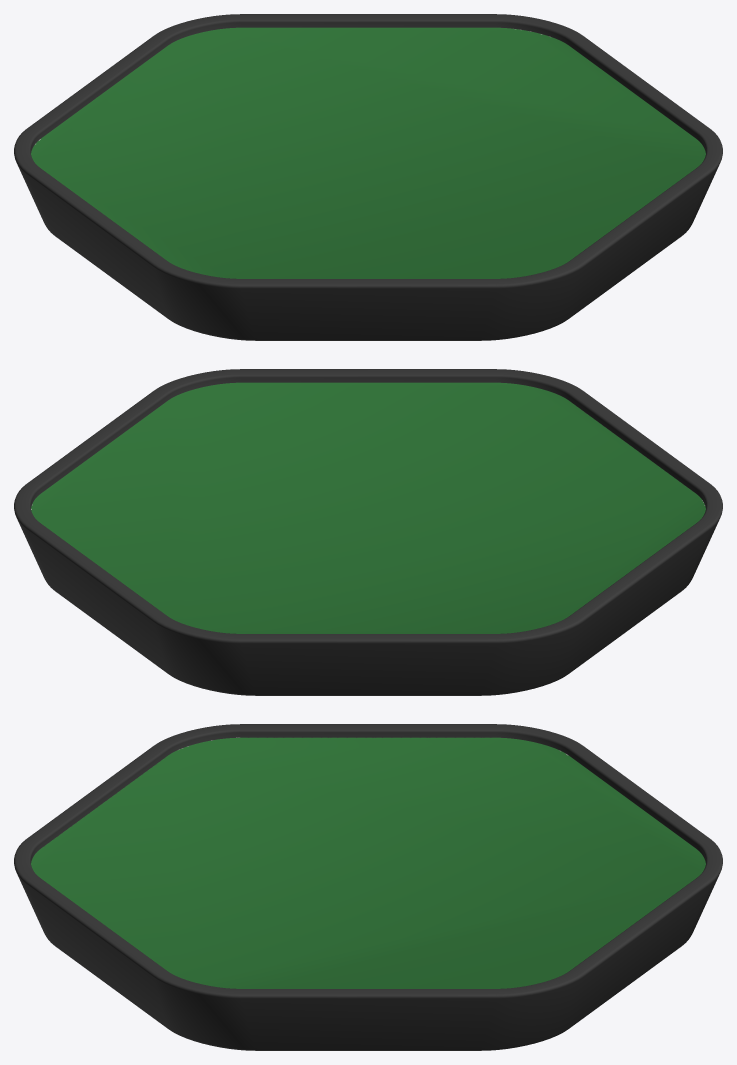
The model's file is 3P_Ground.glb.
3 views of the same model, one above another, from view 1: azimuth 30°, elevation 25°; view 2: azimuth 150°, elevation 25°; view 3: azimuth 270°, elevation 25° (orthographic).
Parts seen in each view (by area): view 1: ParkGround; view 2: ParkGround; view 3: ParkGround.
Boxes of the visible parts, <box> form: ParkGround: <box>14,14,722,340</box>; ParkGround: <box>14,369,722,695</box>; ParkGround: <box>14,724,722,1050</box>.
Bounding box in the file's own units: 17.26 × 2 × 19.01.
1 material, 1 textured.
